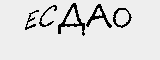А: (86, 4, 111, 29)
Д: (57, 1, 85, 34)
Е: (26, 5, 39, 27)
О: (112, 5, 135, 26)
С: (39, 2, 59, 27)
